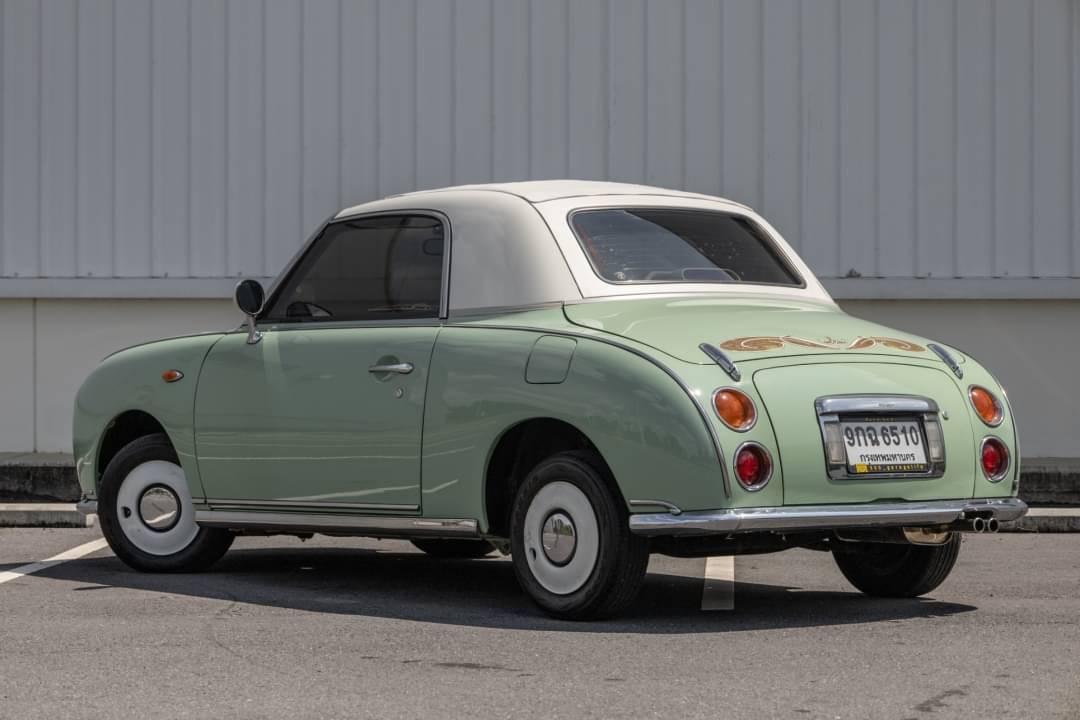license-plate: (833, 411, 933, 476)
